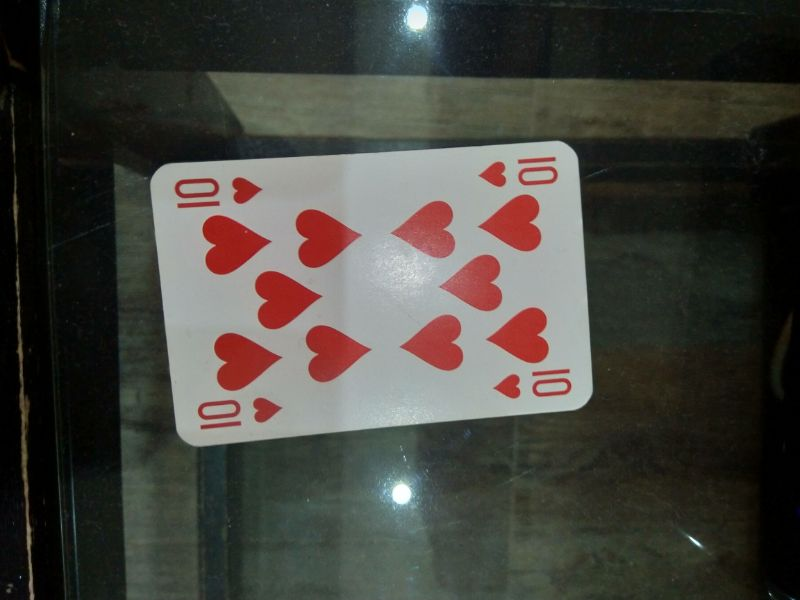Th: (170, 172, 266, 213), (193, 391, 285, 432), (493, 362, 575, 401), (477, 153, 561, 189)
